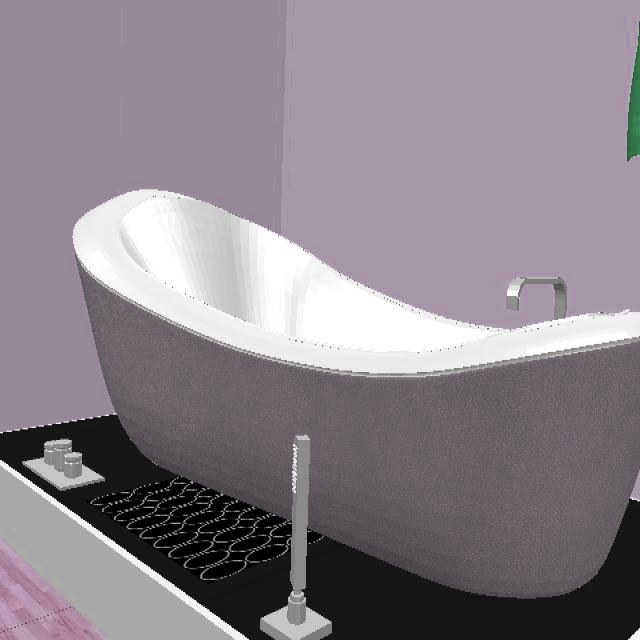bathtube: (72, 191, 640, 603)
